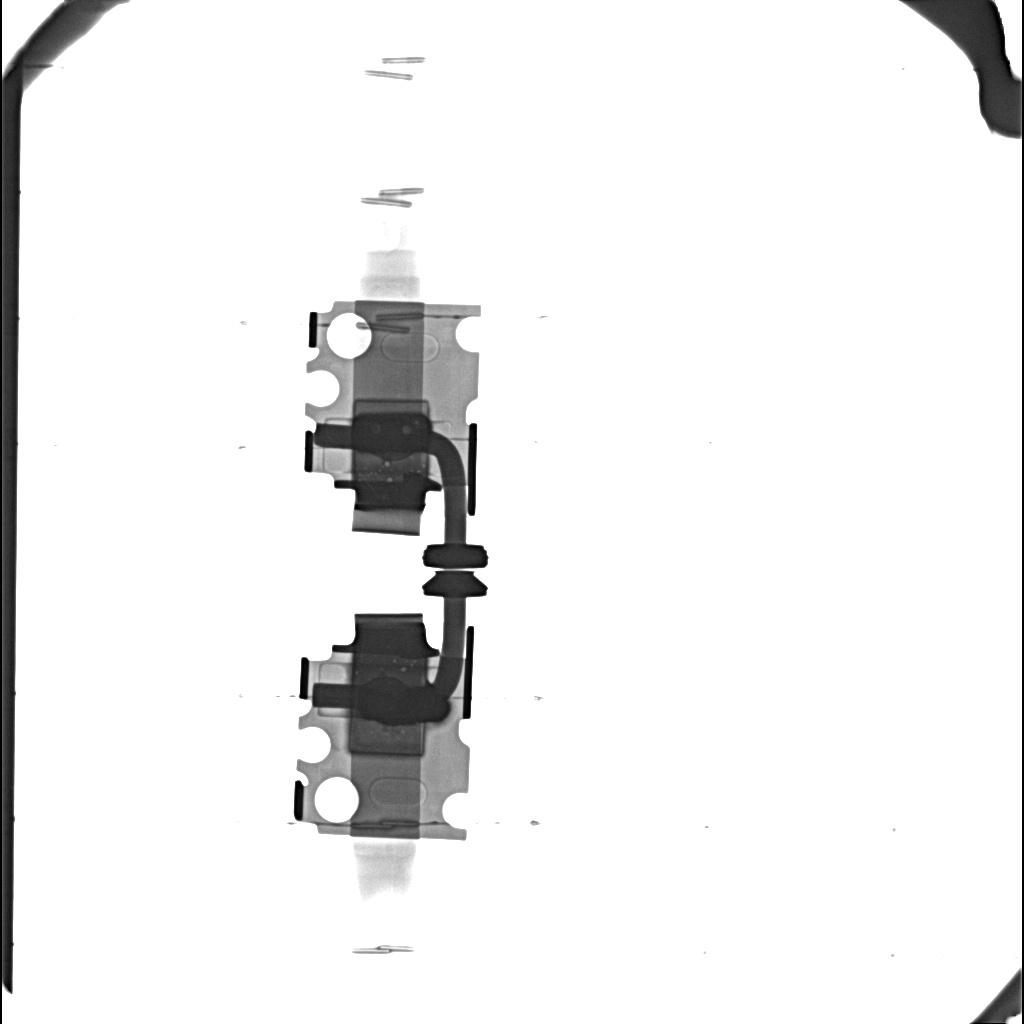defect: (358, 687, 451, 725), (347, 714, 425, 757), (352, 412, 430, 454), (352, 400, 430, 414)
